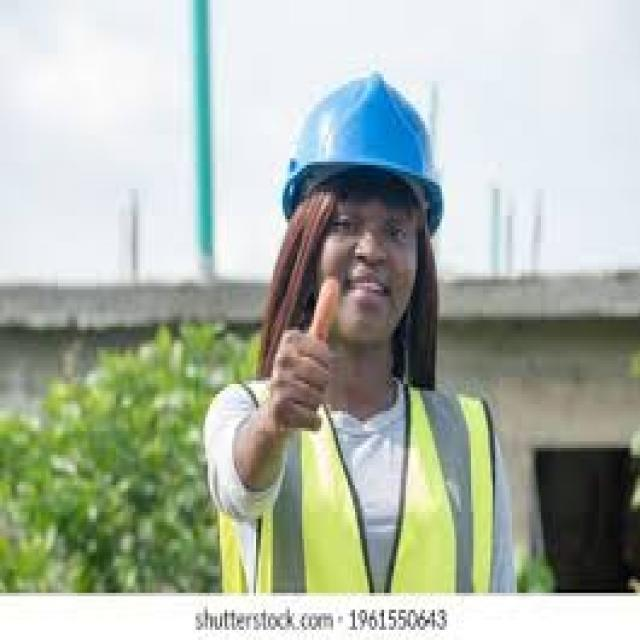reflective_jacket: (210, 370, 512, 596)
safety_helmet: (263, 64, 458, 225)
